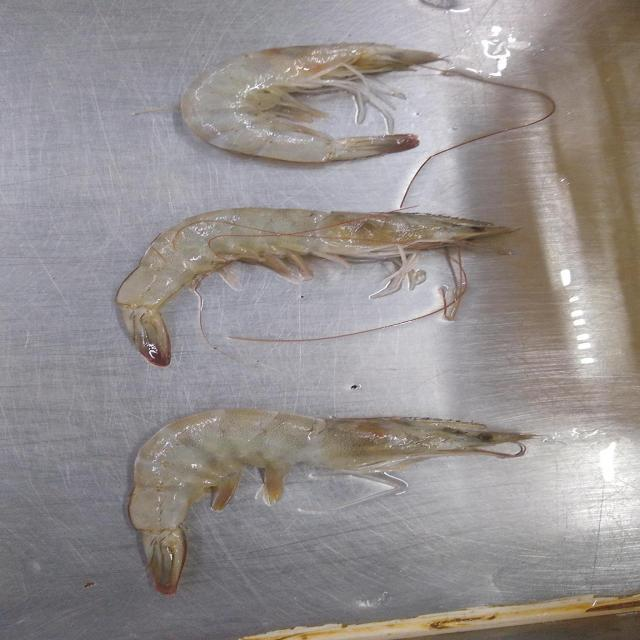shrimp: (129, 409, 533, 595), (116, 208, 513, 366), (180, 42, 440, 162)
